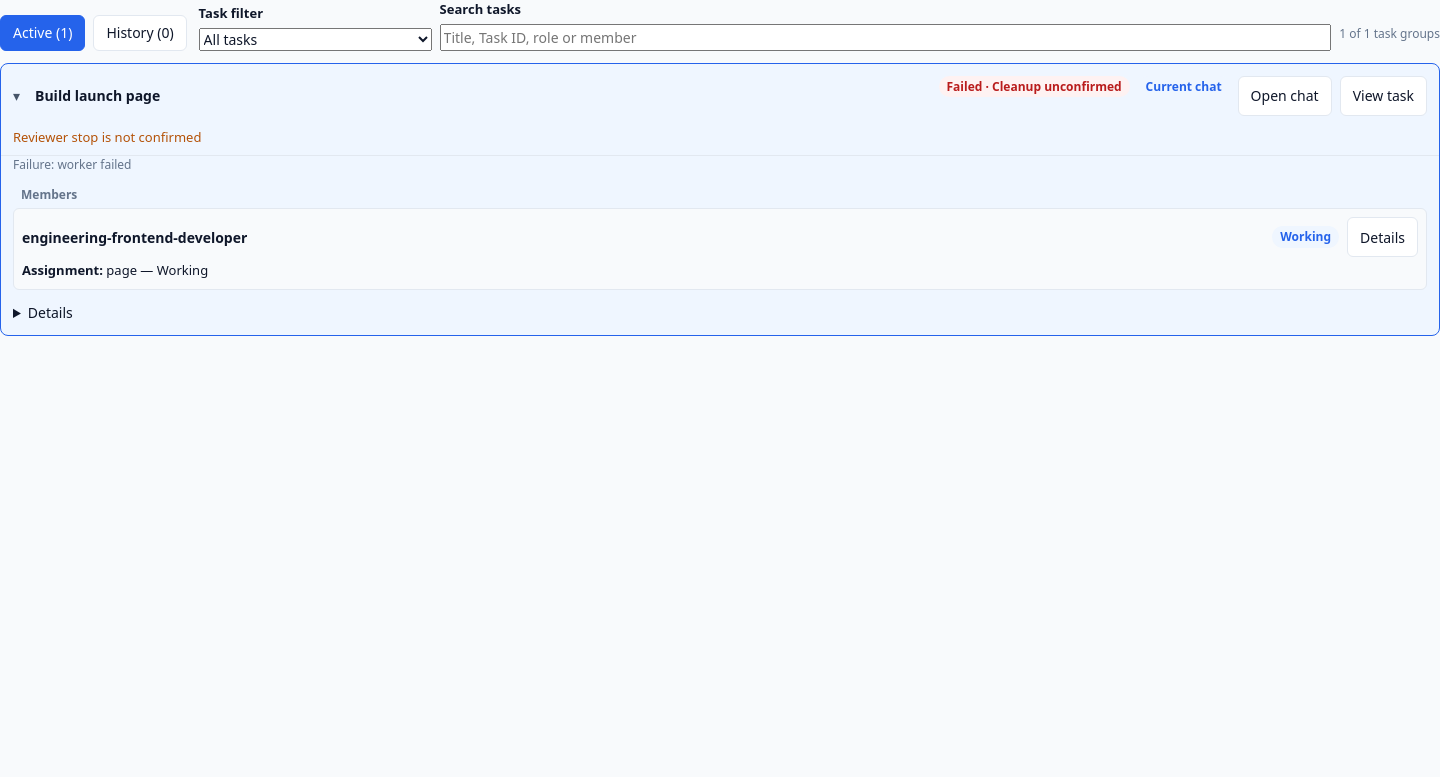
Test: LG-264 recruited details › retains review unavailability and stop warnings without suggesting success
This screenshot has width=1440, height=777.
Expected: the text "Reviewer stop is not confirmed" is shown, [13,128,201,146]
Expected: the text "Failure: worker failed" is shown, [13,156,132,173]
Click the heading "Details" at coordinates (50, 312), box [28,302,73,322]
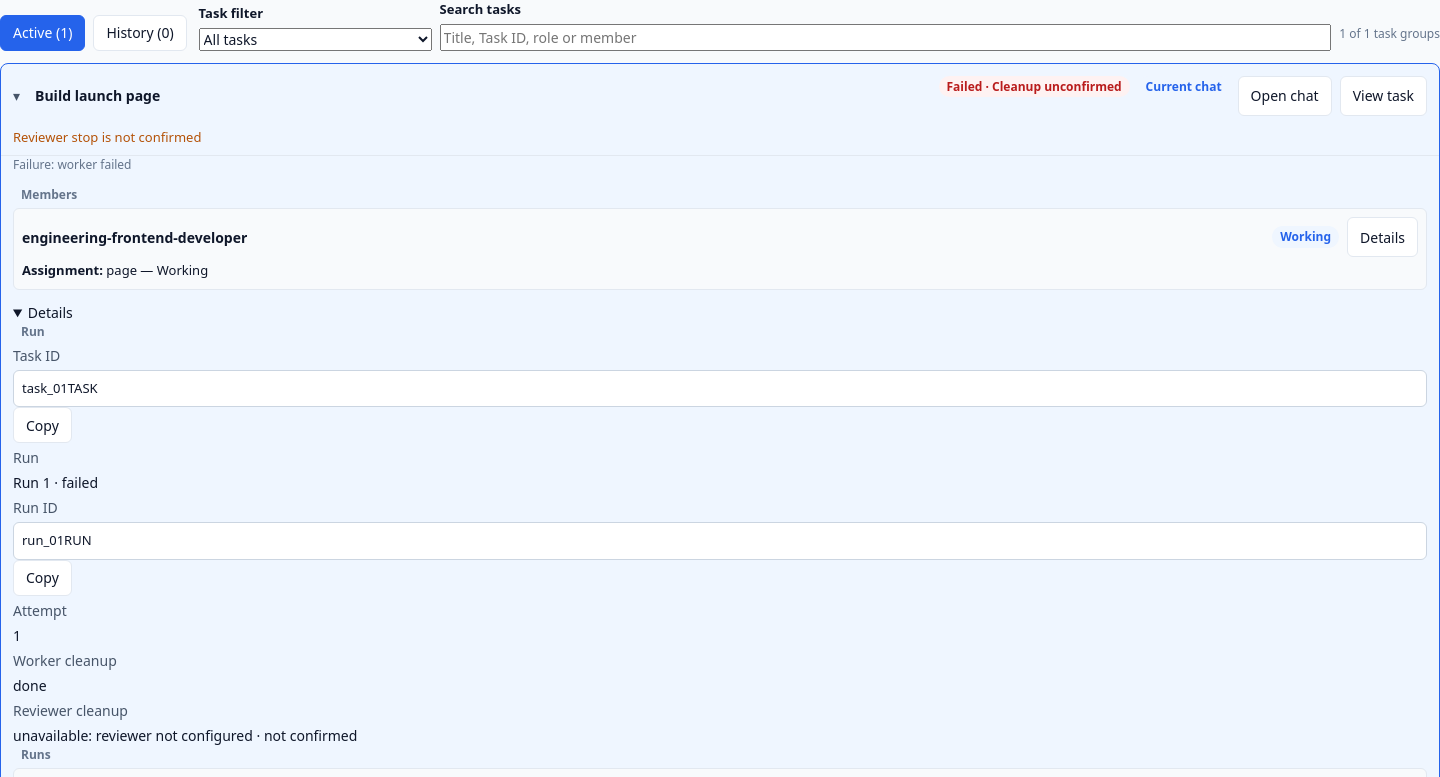
Expected: the text "unavailable: reviewer not configured · not confirmed" is shown, [13,726,357,744]
